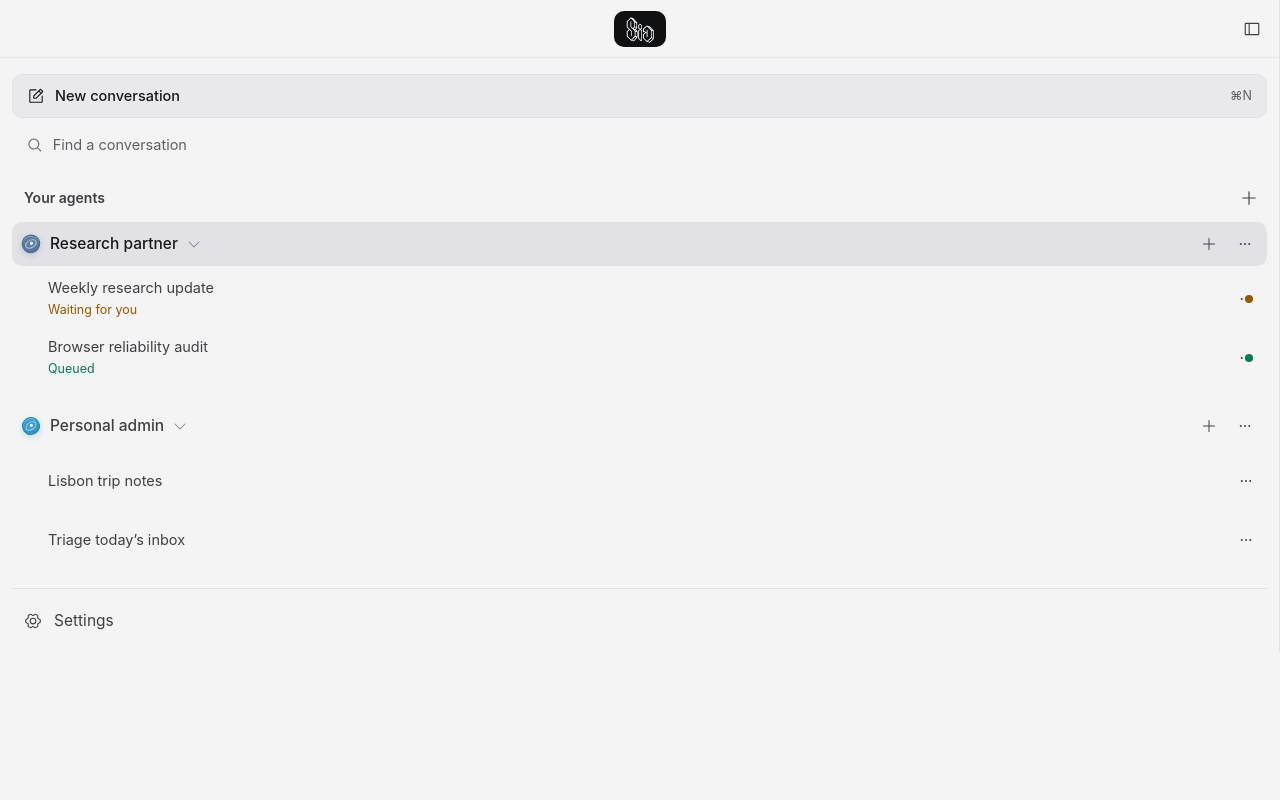
thread navigation › says why Delete is unavailable while a conversation waits on the person
The width and height of the screenshot is (1280, 800).
Step 1. Press the mouse on the button named "Conversation actions for Weekly research update" → (1246, 298), box top-left (1228, 280), bottom-right (1264, 316)
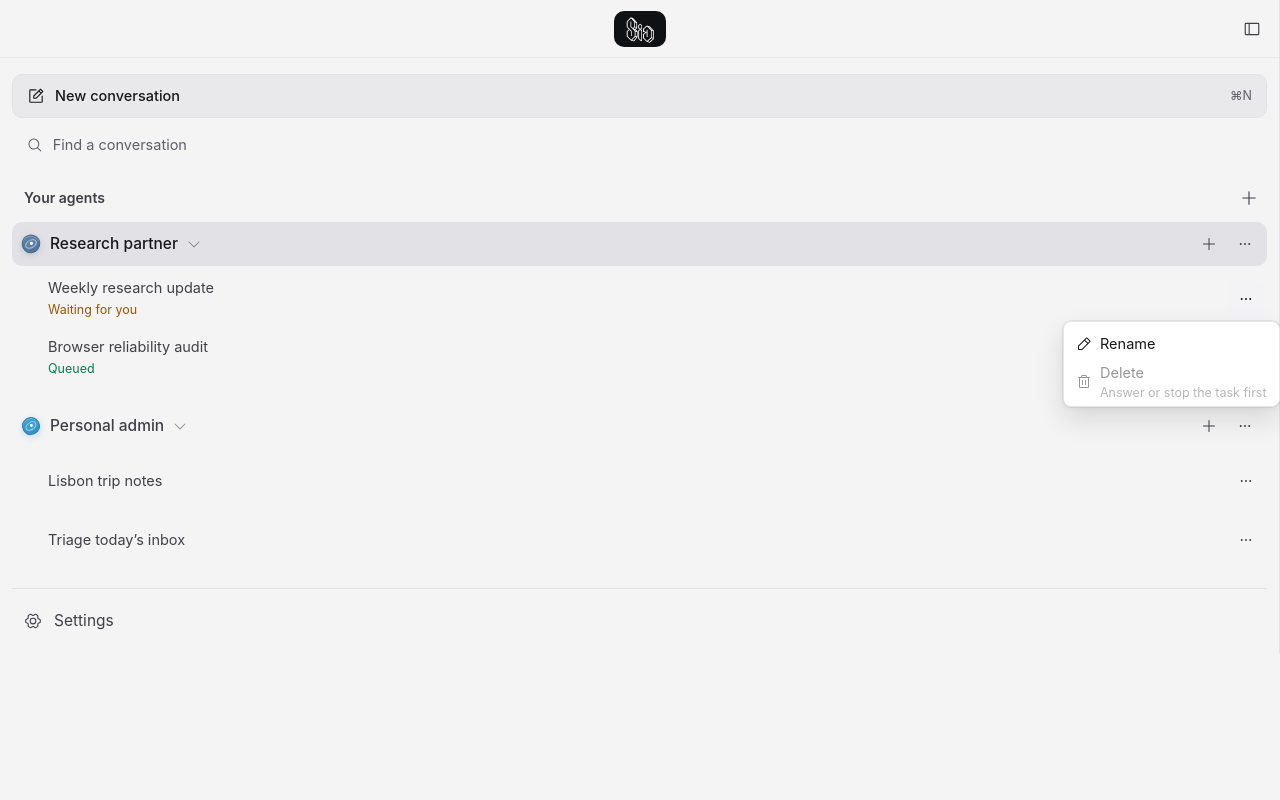
Now the menu item "Delete Answer or stop the task first" is shown, box top-left (1068, 362), bottom-right (1274, 402)
